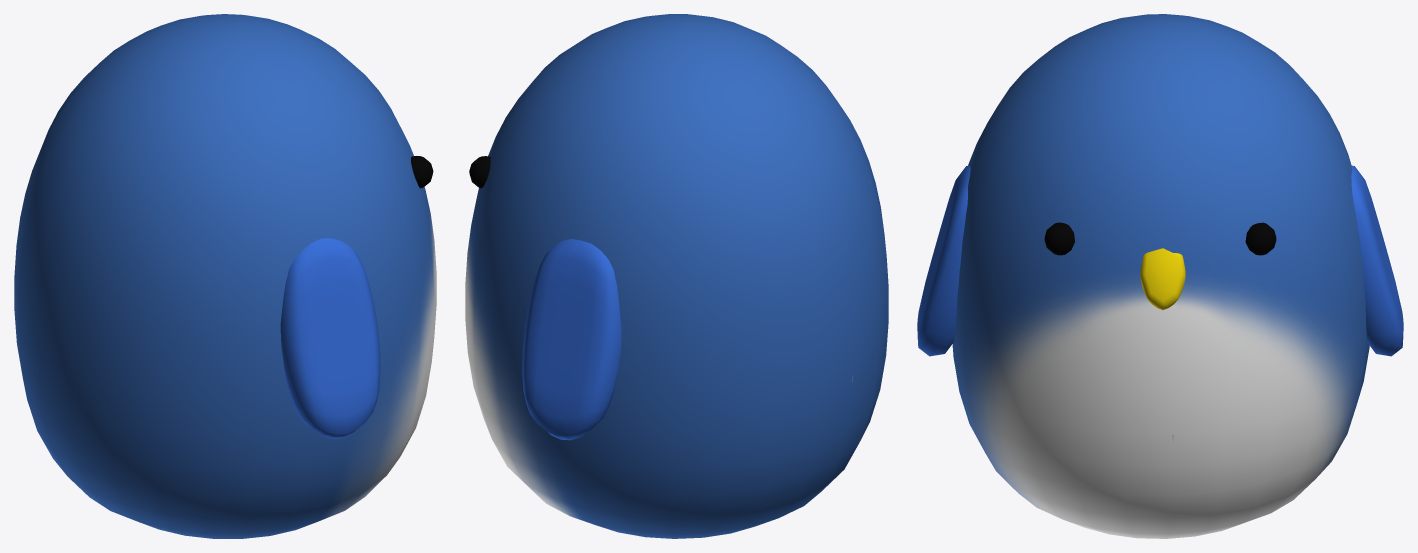
Rendered from Penguin.gltf.
3 renders of one model, left to right at view 1: azimuth 30°, elevation 25°; view 2: azimuth 150°, elevation 25°; view 3: azimuth 270°, elevation 25°, orthographic.
Visible parts, largest first — view 1: Body, Plane, Sphere.001; view 2: Body, Plane, Sphere.001; view 3: Body, Plane, Plane.001, Sphere.001.
Boxes of the visible parts, x1,y1,x2,y2 form: Body: (14,14,436,538); Plane: (280,238,380,438); Sphere.001: (411,156,433,188); Body: (465,14,888,538); Plane: (522,239,621,440); Sphere.001: (469,156,490,188); Body: (952,14,1369,538); Plane: (917,165,1403,356); Plane.001: (1140,248,1185,309); Sphere.001: (1044,222,1276,255).
Size of the model in its own units: 2.33 by 2.85 by 2.65.
4 materials, 1 textured.
